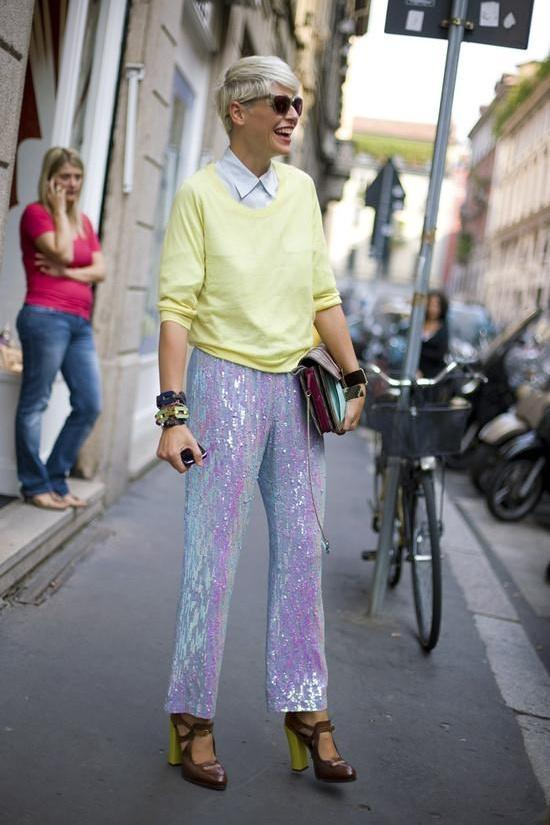Tshirt: (24, 198, 104, 316)
pants: (167, 348, 327, 720), (16, 304, 104, 500)
sweater: (159, 161, 343, 370)
